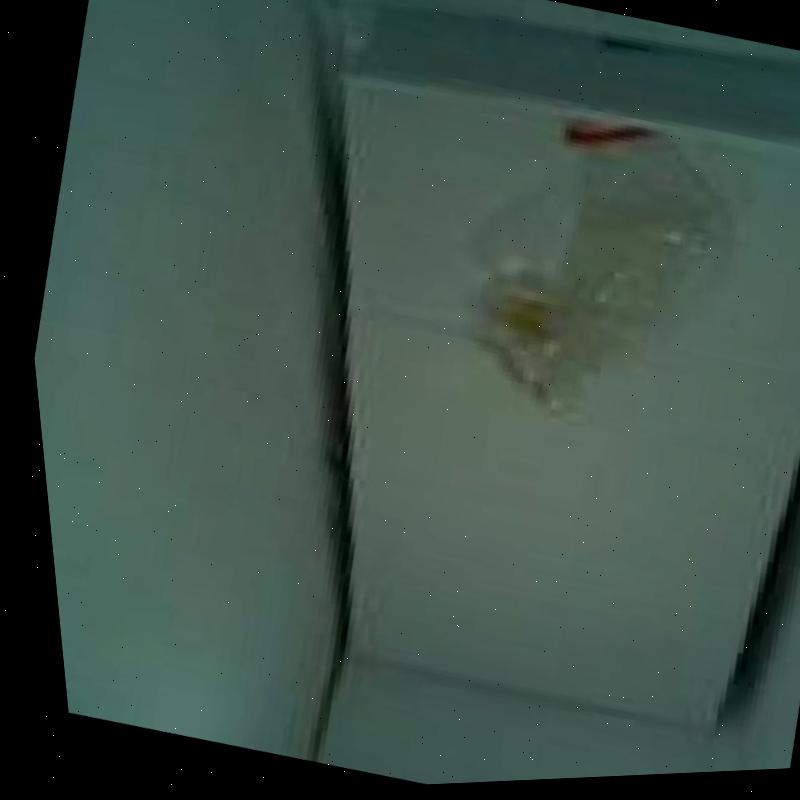botella: (427, 95, 766, 459)
